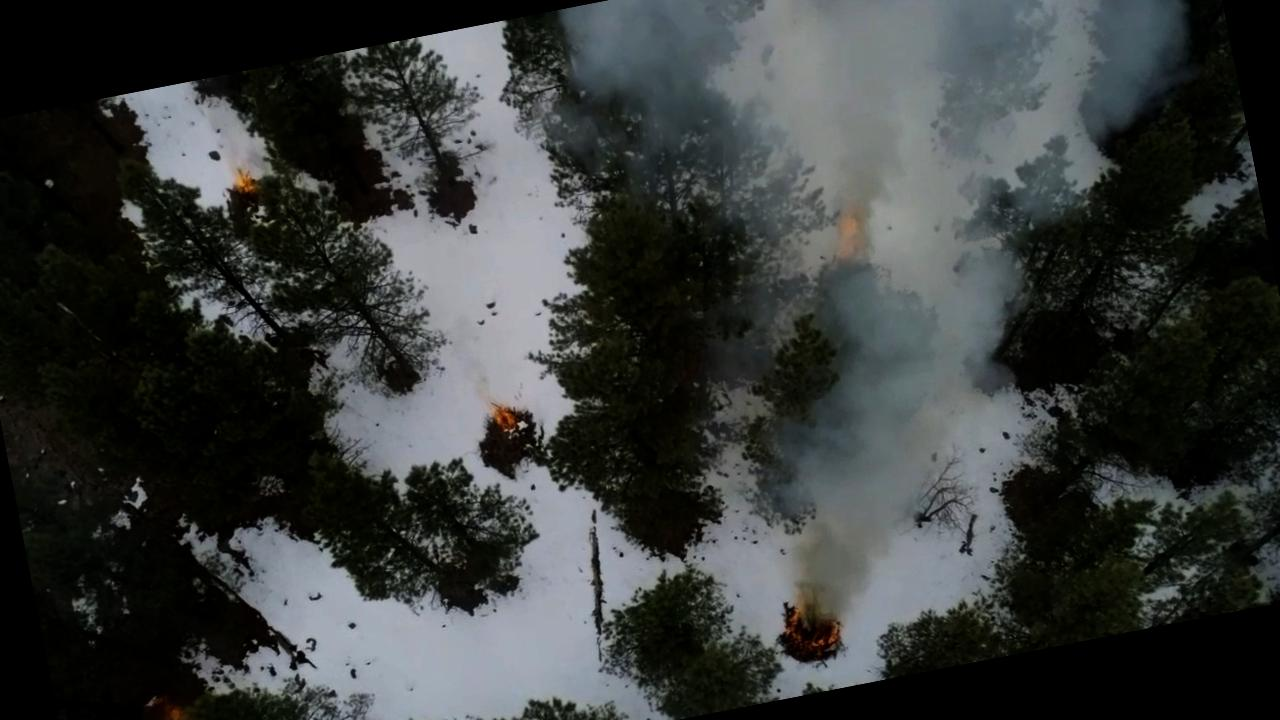fire: (765, 570, 859, 667), (820, 184, 884, 274), (474, 373, 520, 429)
smoke: (746, 0, 1193, 299), (742, 278, 994, 503), (554, 0, 788, 223)
